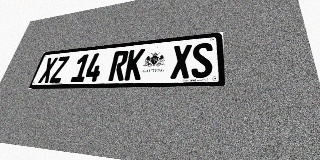1: (70, 54, 91, 82)
4: (84, 52, 105, 82)
K: (124, 49, 145, 80)
R: (108, 50, 129, 81)
S: (191, 42, 213, 78)
X: (170, 44, 192, 79), (38, 57, 58, 83)
Z: (49, 56, 70, 83)
